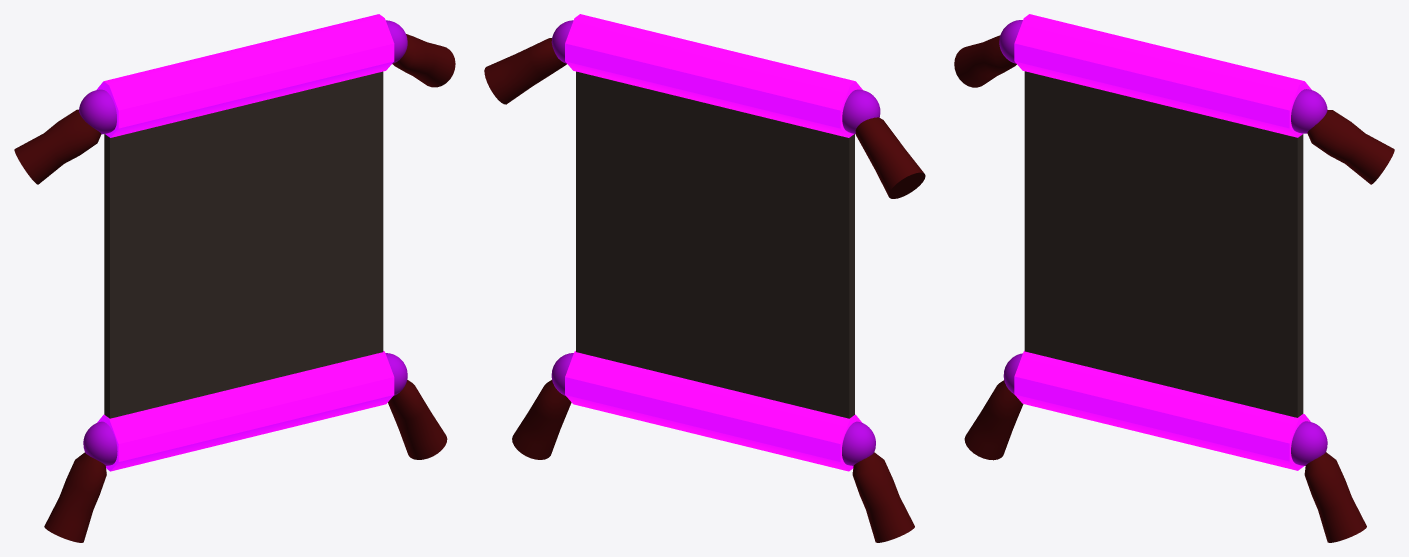
File: panneauAffichage.fbx
The picture shows the model from 3 angles, left to right: view 1: azimuth 30°, elevation 25°; view 2: azimuth 150°, elevation 25°; view 3: azimuth 330°, elevation 25°; orthographic projection.
Parts seen in each view (by area): view 1: Box001, Cone006, Object001, Object005; view 2: Box001, Cone006, Object001, Object005; view 3: Box001, Cone006, Object001, Object005.
Boxes of the visible parts, left/top/right/bottom form: Box001: left=104, top=71, right=383, bottom=418; Cone006: left=96, top=14, right=394, bottom=471; Object001: left=14, top=34, right=455, bottom=542; Object005: left=79, top=20, right=407, bottom=465; Box001: left=576, top=71, right=854, bottom=418; Cone006: left=565, top=14, right=862, bottom=471; Object001: left=484, top=38, right=925, bottom=542; Object005: left=551, top=20, right=880, bottom=465; Box001: left=1024, top=71, right=1303, bottom=417; Cone006: left=1014, top=14, right=1311, bottom=470; Object001: left=954, top=35, right=1394, bottom=542; Object005: left=999, top=20, right=1327, bottom=465.
Bounding box in the file's own units: 795 × 784 × 112.
